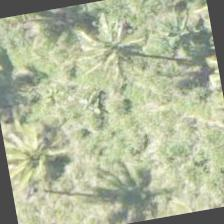Kelapa_Sawit: (52, 0, 157, 99), (0, 104, 91, 207)
